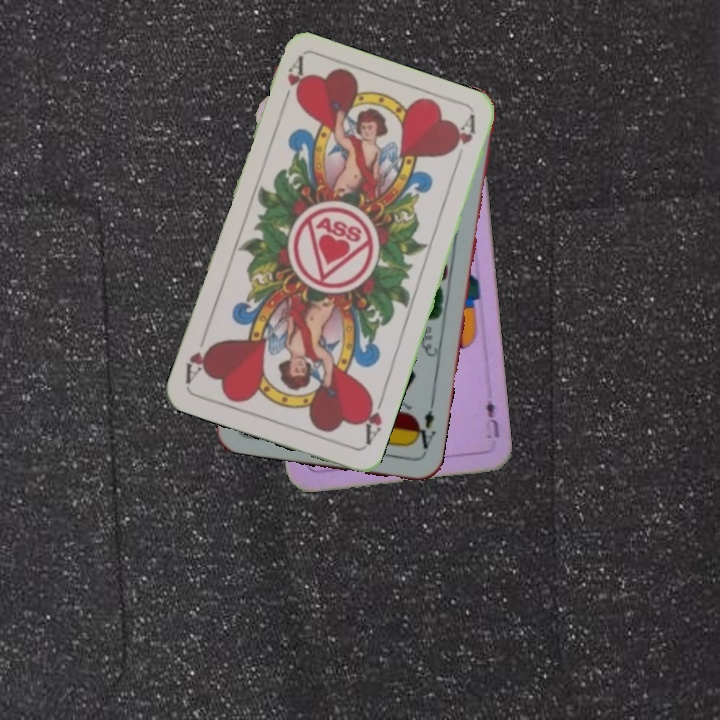EA: (410, 398, 439, 457)
EU: (482, 396, 502, 441)
HA: (276, 55, 308, 112), (357, 390, 387, 448)
